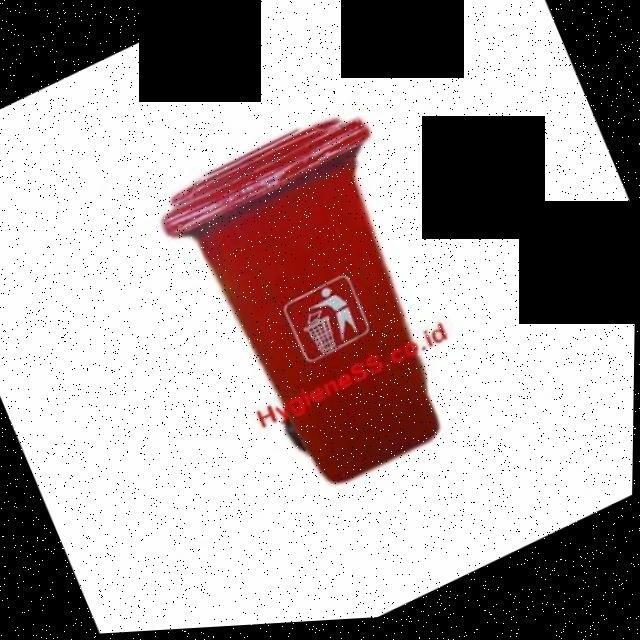bin: (122, 36, 593, 605)
